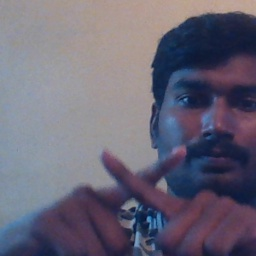X: (75, 133, 208, 251)
